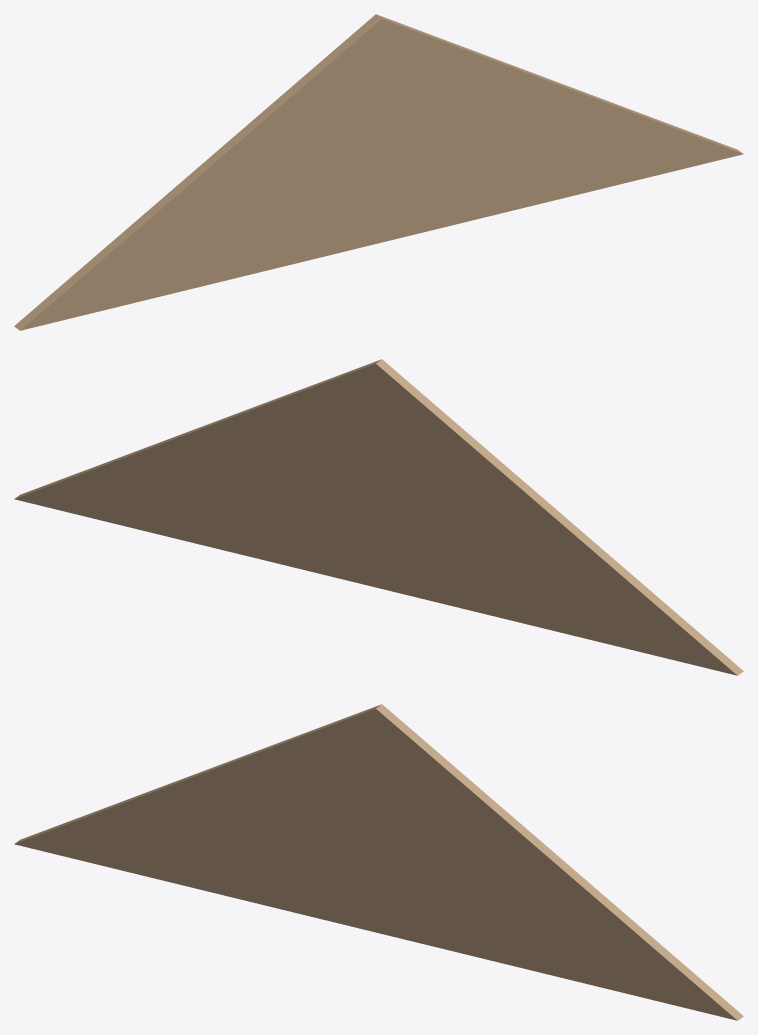
Rendered from Wall2_C1_20.fbx.
The picture shows the model from 3 angles, top to bottom: view 1: azimuth 30°, elevation 25°; view 2: azimuth 150°, elevation 25°; view 3: azimuth 330°, elevation 25°; orthographic projection.
Visible parts, largest first — view 1: Wall2_C1_20; view 2: Wall2_C1_20; view 3: Wall2_C1_20.
Part boxes in pixels (bbox=[...]): Wall2_C1_20: bbox=[14, 14, 743, 330]; Wall2_C1_20: bbox=[14, 359, 743, 675]; Wall2_C1_20: bbox=[14, 704, 743, 1020].
Bounding box in the file's own units: 1015 × 300 × 15.
